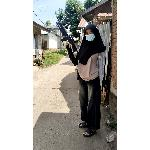Senapan: (53, 16, 81, 54)
